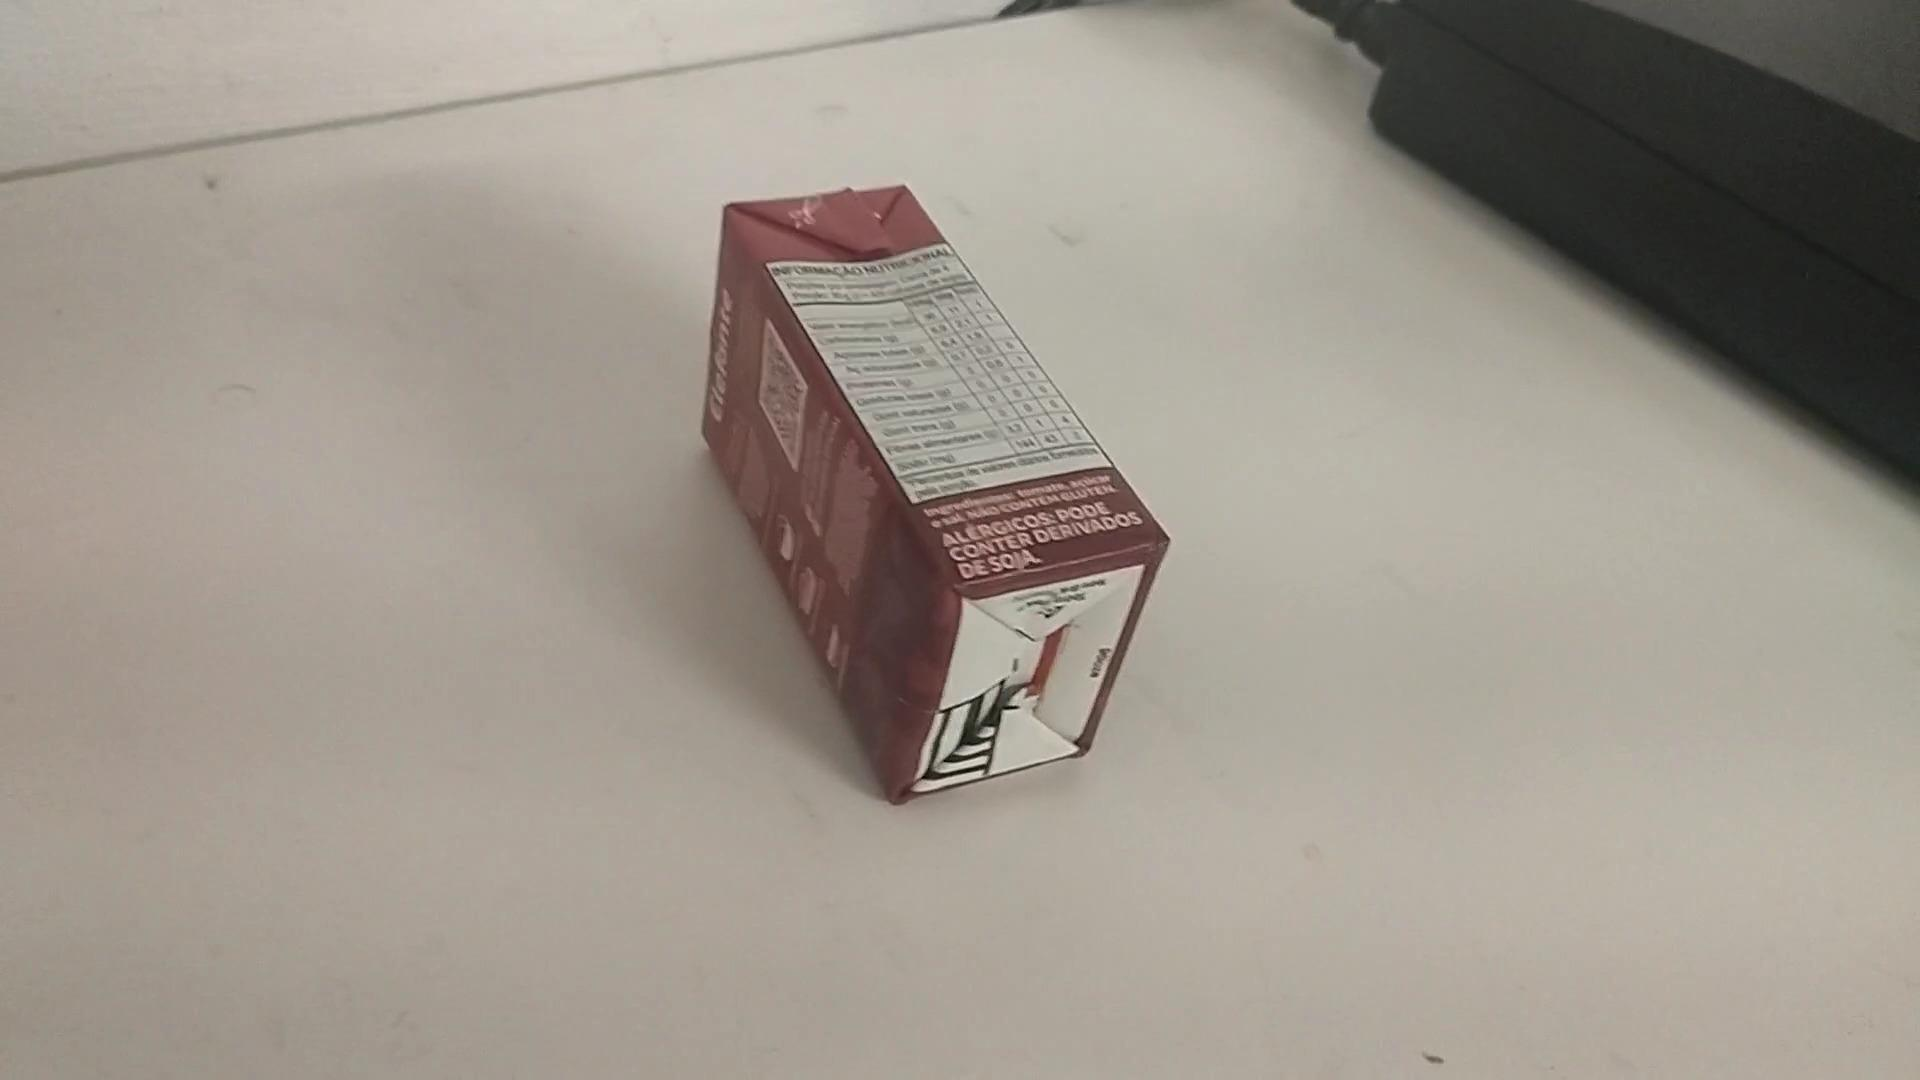tomate: (686, 169, 1185, 810)
